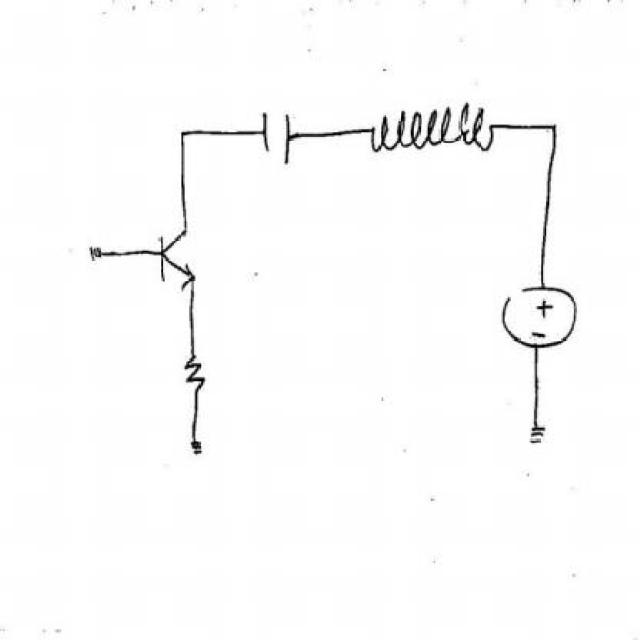capacitor: (256, 106, 296, 168)
ground: (178, 430, 224, 470), (514, 420, 560, 456), (73, 240, 117, 270)
inductor: (369, 100, 492, 162)
resistor: (182, 347, 216, 391)
transistor: (151, 224, 201, 294)
voltage_source: (498, 281, 580, 351)
